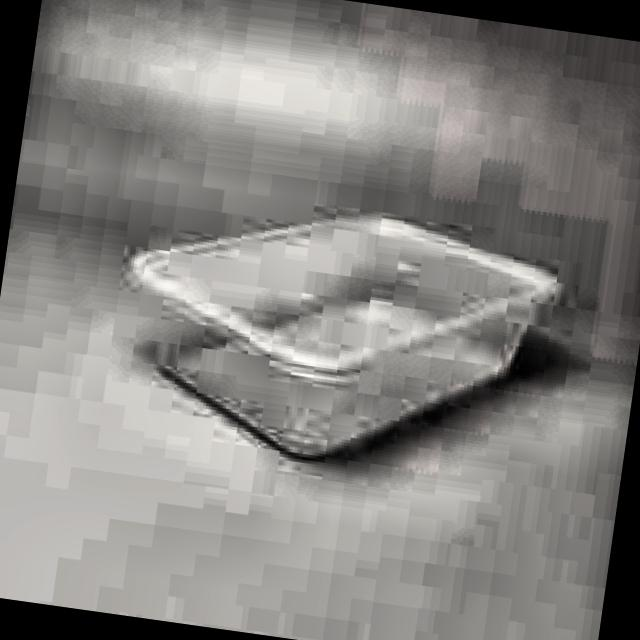plastic container: (129, 215, 556, 458)
